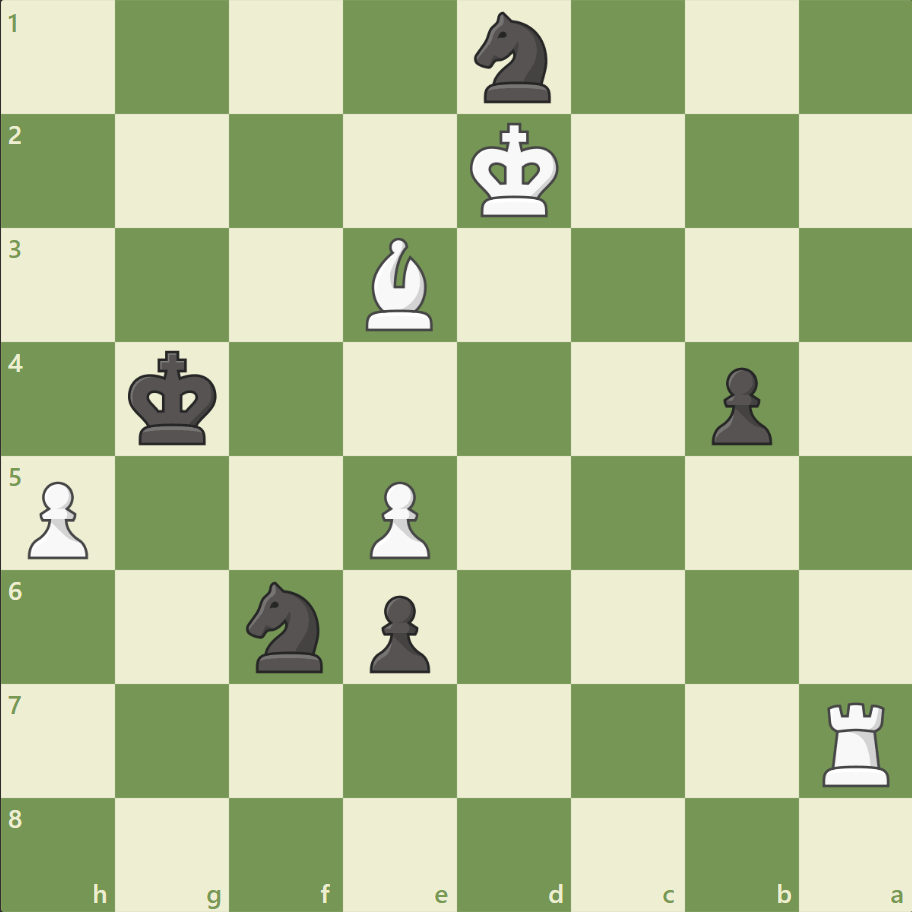B: (358, 233, 442, 336)
K: (465, 117, 565, 225)
P: (20, 473, 95, 564), (361, 473, 435, 564)
R: (814, 693, 897, 790)
k: (124, 344, 224, 452)
n: (465, 7, 562, 110), (238, 575, 335, 677)
p: (701, 359, 776, 450), (361, 586, 435, 677)
